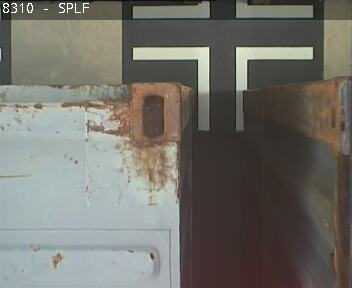groundmarker_1: (131, 46, 312, 132)
